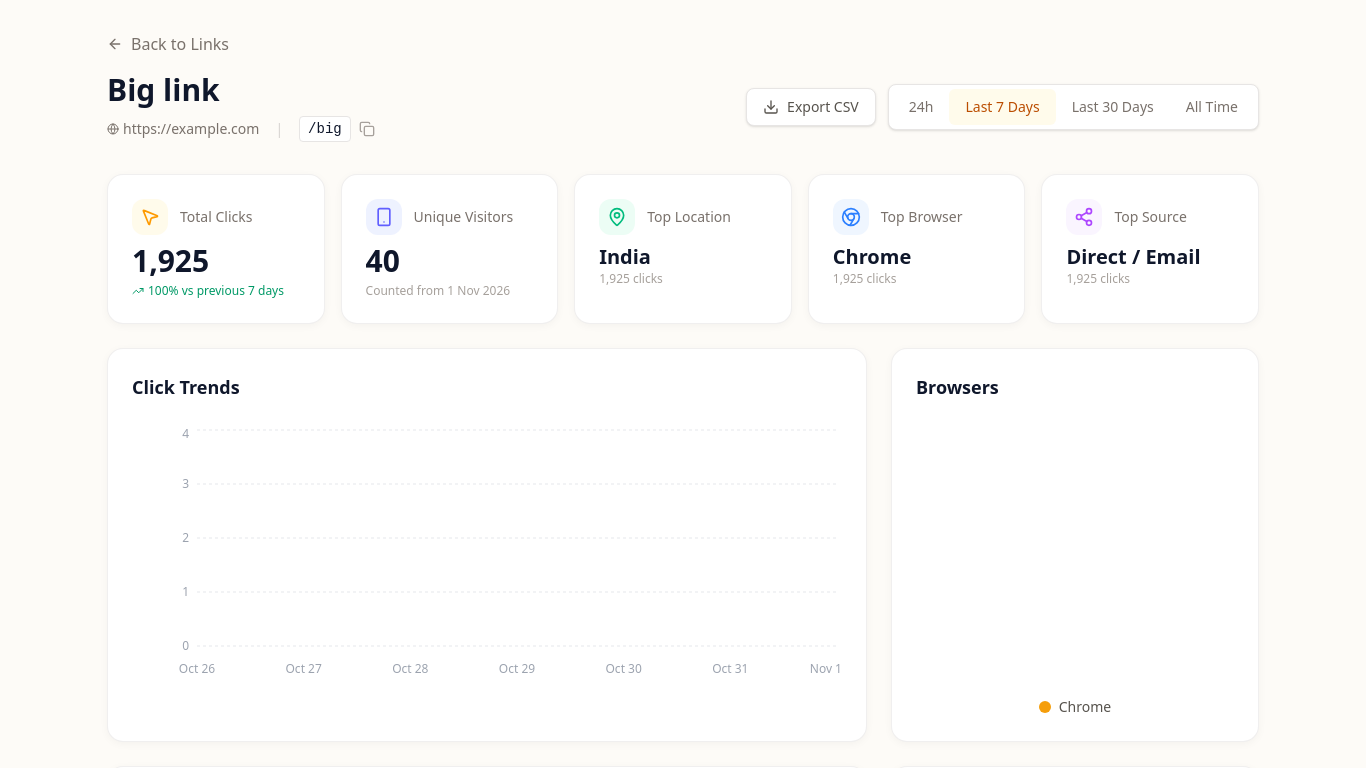
Test case: link analytics page › shows the range total on the cards, with no comparison for All Time
Expected: the text "1,925" is shown, [132,240,209,281]
Expected: the text "100% vs previous 7 days" is shown, [132,283,300,299]
Step 1. Click the button "All Time" → (1212, 107), box [1170,89,1254,125]
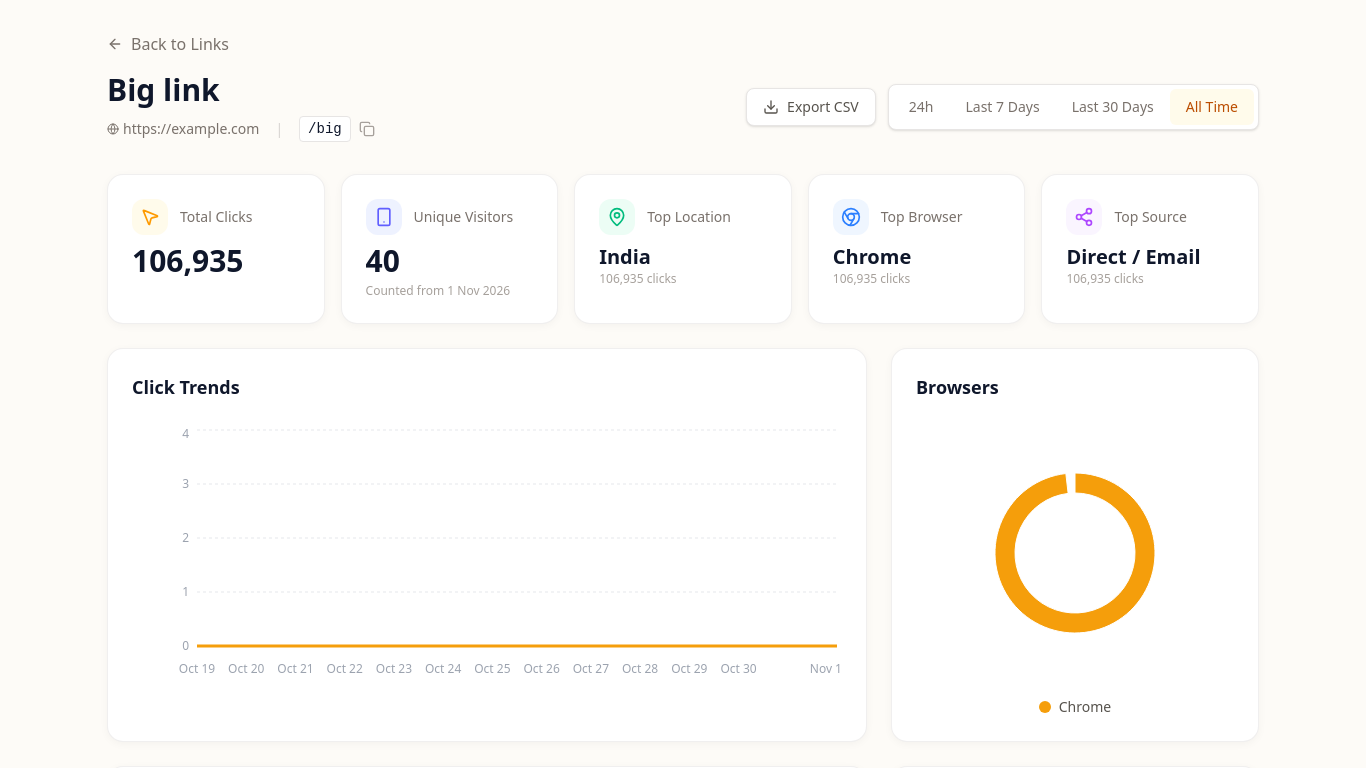
Expected: the text "Counted from 1 Nov 2026" is shown, [366,283,533,299]
Now the text "106,935" is shown, box [132,240,244,281]
Now the text "vs previous" is gone
